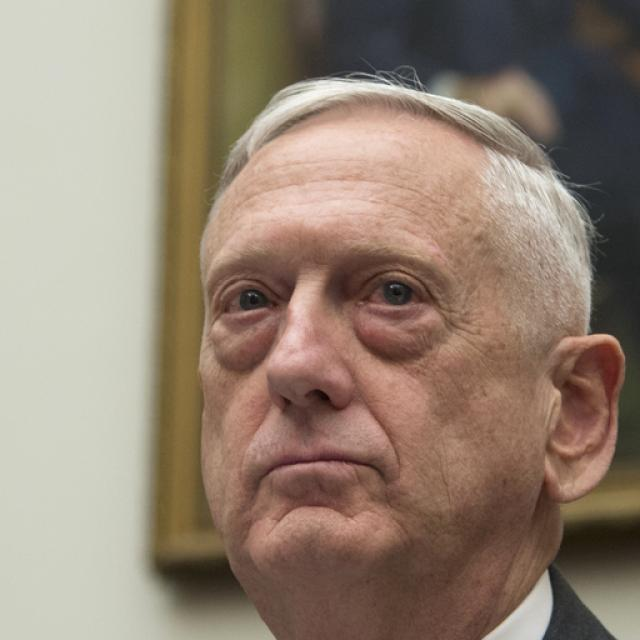sad: (198, 124, 542, 604)
